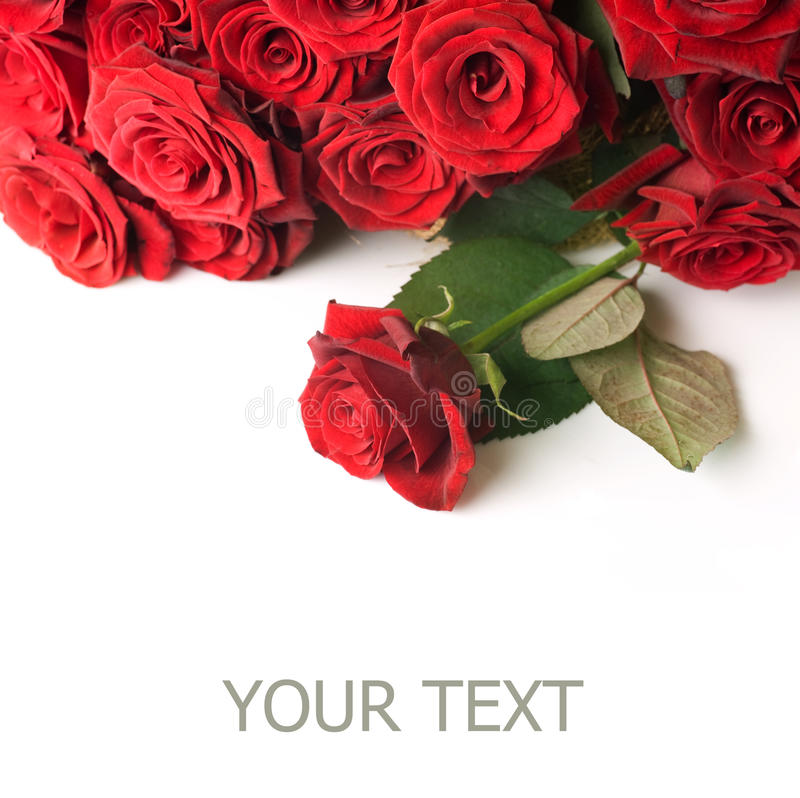RedRose: (319, 302, 483, 500), (396, 8, 592, 165), (84, 60, 266, 221), (0, 143, 177, 300), (615, 157, 799, 294), (272, 103, 441, 242), (5, 41, 109, 170), (642, 60, 800, 134), (230, 8, 367, 81), (78, 10, 201, 58)
